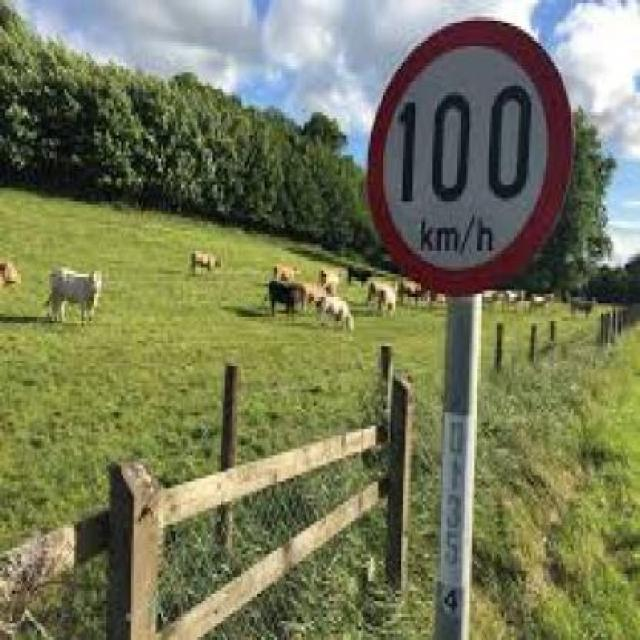forb_speed_over_100: (372, 19, 569, 290)
